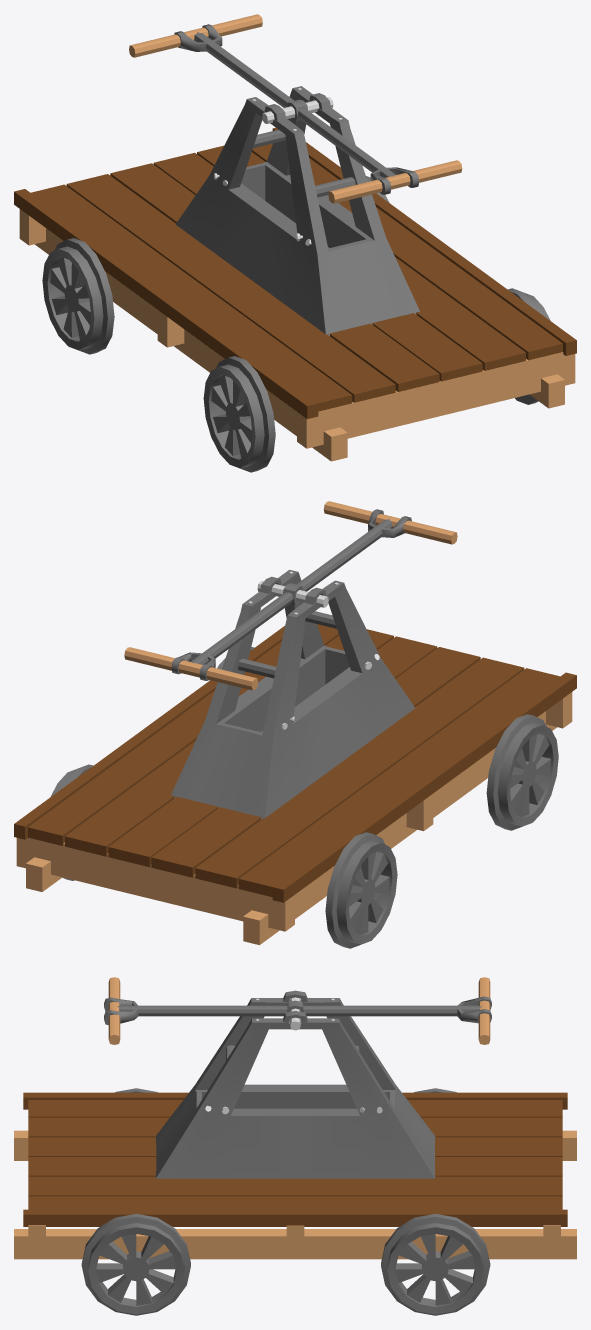
File: Morte_Caindo_Buraco_Carrinho.fbx
3 views of the same model, one above another, from view 1: azimuth 30°, elevation 25°; view 2: azimuth 150°, elevation 25°; view 3: azimuth 270°, elevation 25° (orthographic). The views are drawn at different scales.
Parts seen in each view (by area): view 1: Cube.002; view 2: Cube.002; view 3: Cube.002.
Part boxes in pixels (box(x1,y1,x2,y2)): Cube.002: box(14, 14, 576, 472); Cube.002: box(14, 501, 576, 948); Cube.002: box(14, 977, 576, 1315).
Bounding box in the file's own units: 197 × 166 × 339.
